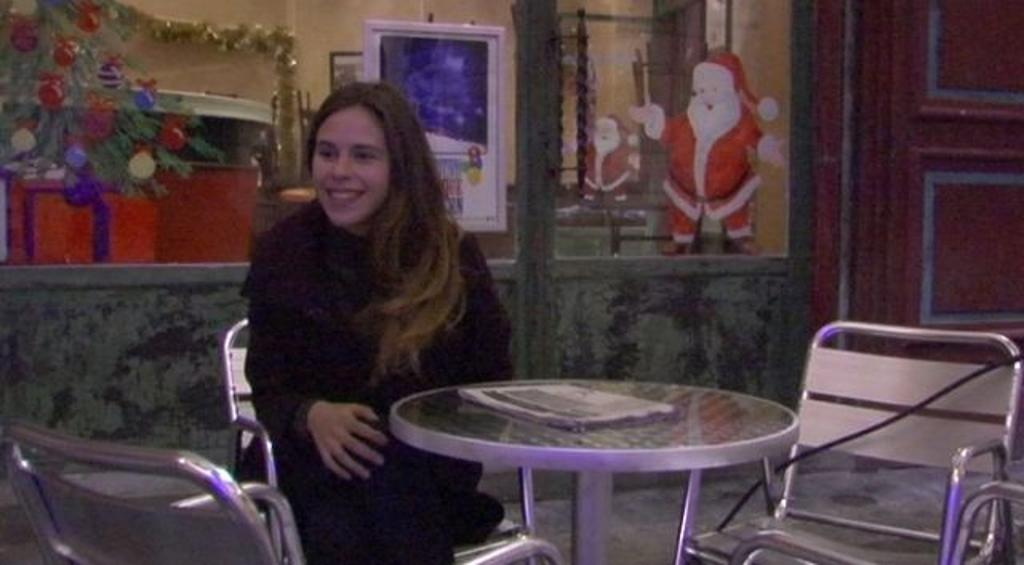face: (314, 110, 392, 226)
